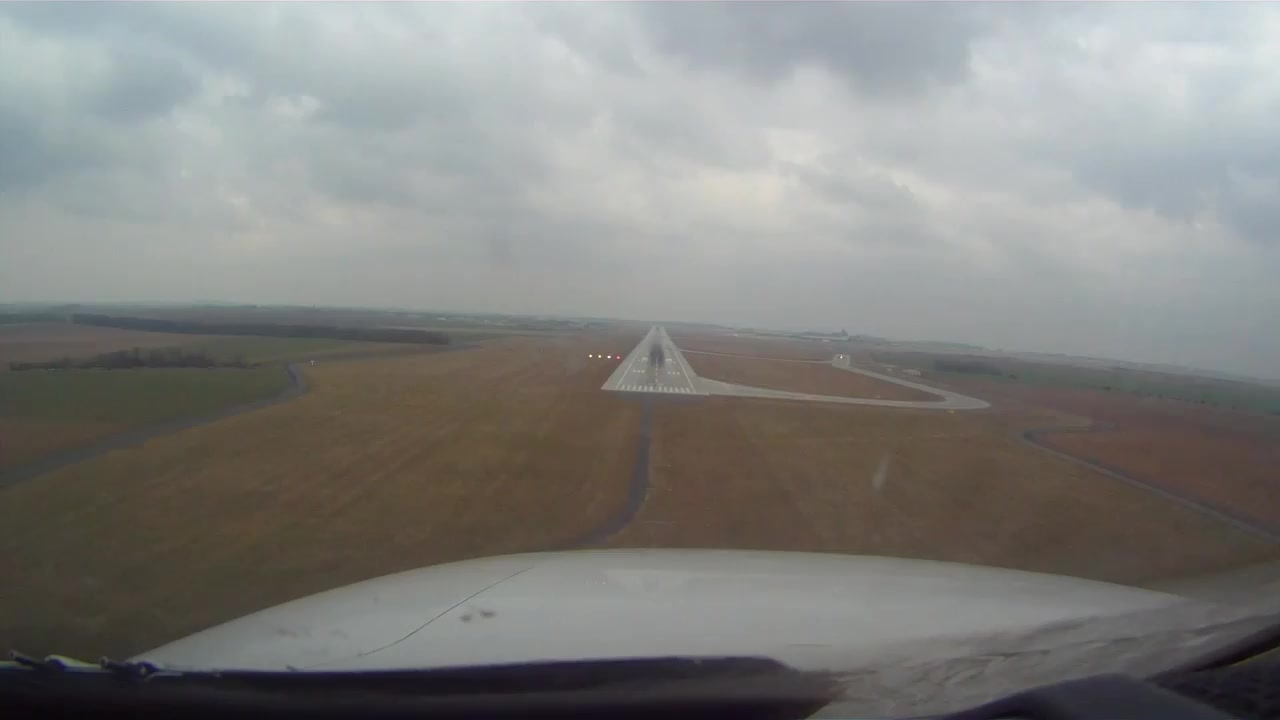entrance: (620, 384, 694, 395)
runway: (601, 323, 703, 397)
